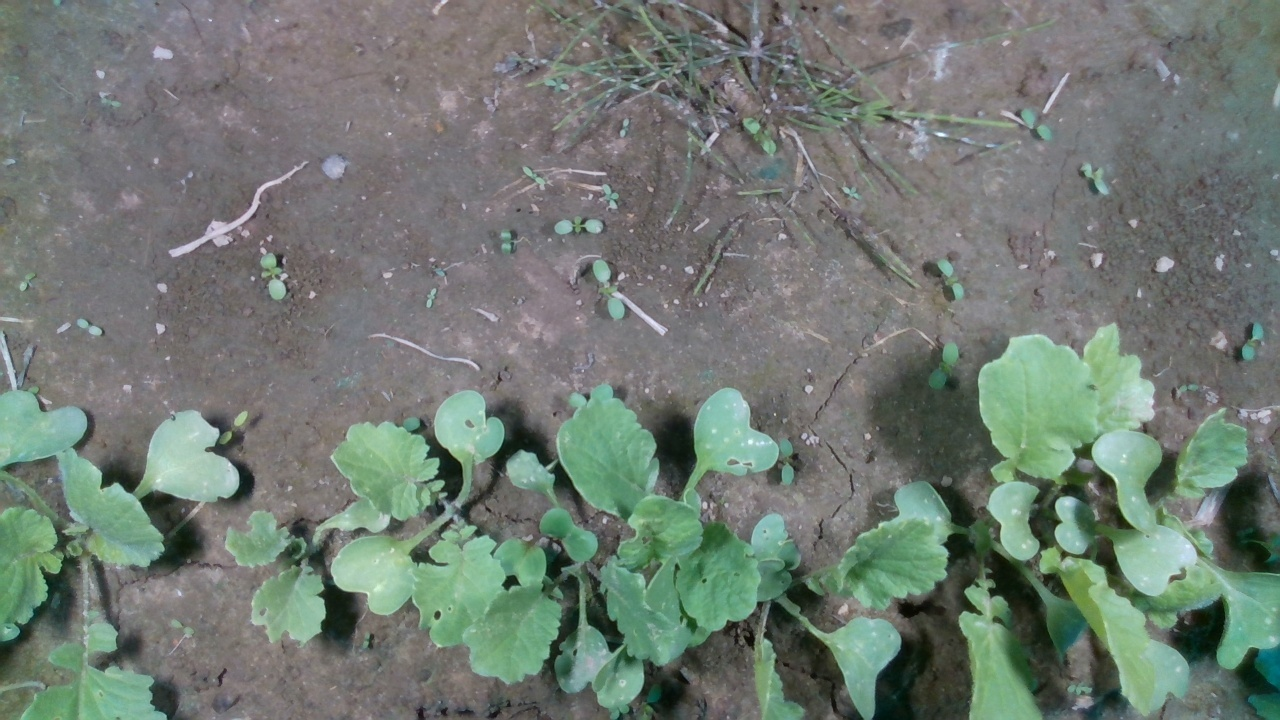weed: (592, 259, 625, 321), (927, 340, 959, 390), (258, 251, 288, 303), (935, 257, 965, 301), (1020, 107, 1053, 142), (553, 215, 604, 235), (1241, 321, 1265, 362), (779, 436, 795, 486), (520, 164, 546, 189), (74, 317, 104, 337), (599, 183, 620, 210), (497, 227, 514, 259), (18, 270, 36, 293), (423, 287, 436, 310), (619, 115, 630, 138), (360, 630, 371, 651)
